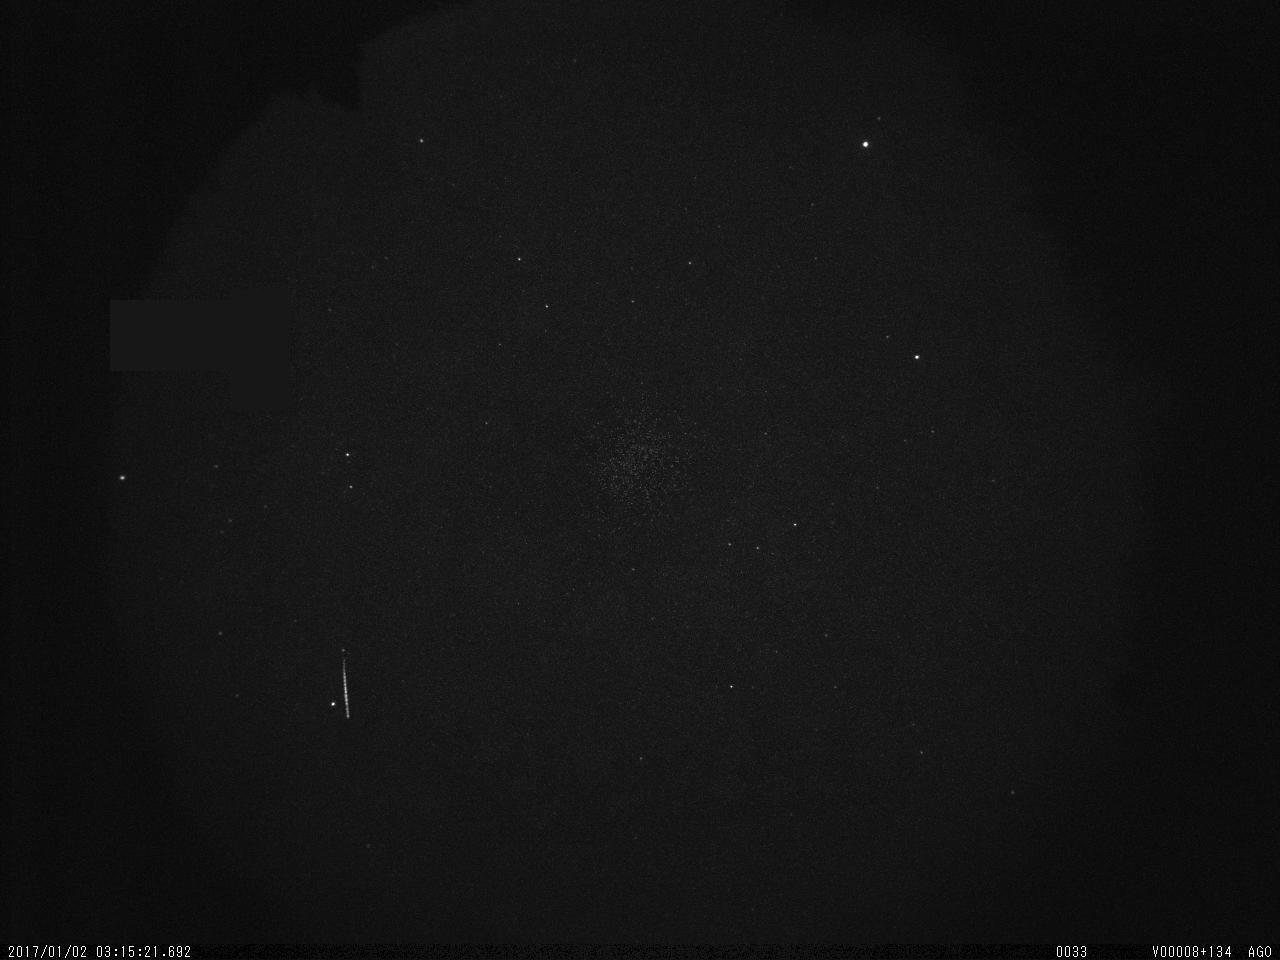Meteor: (335, 644, 368, 734)
